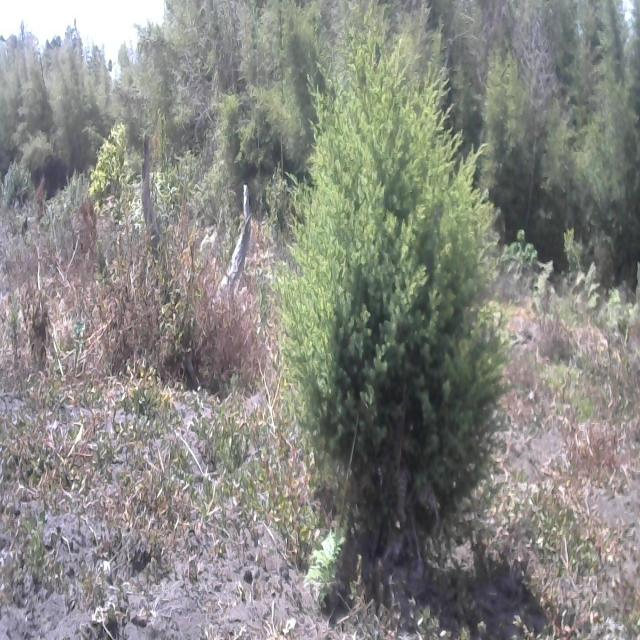Juniperus procesera: (286, 43, 520, 565)
